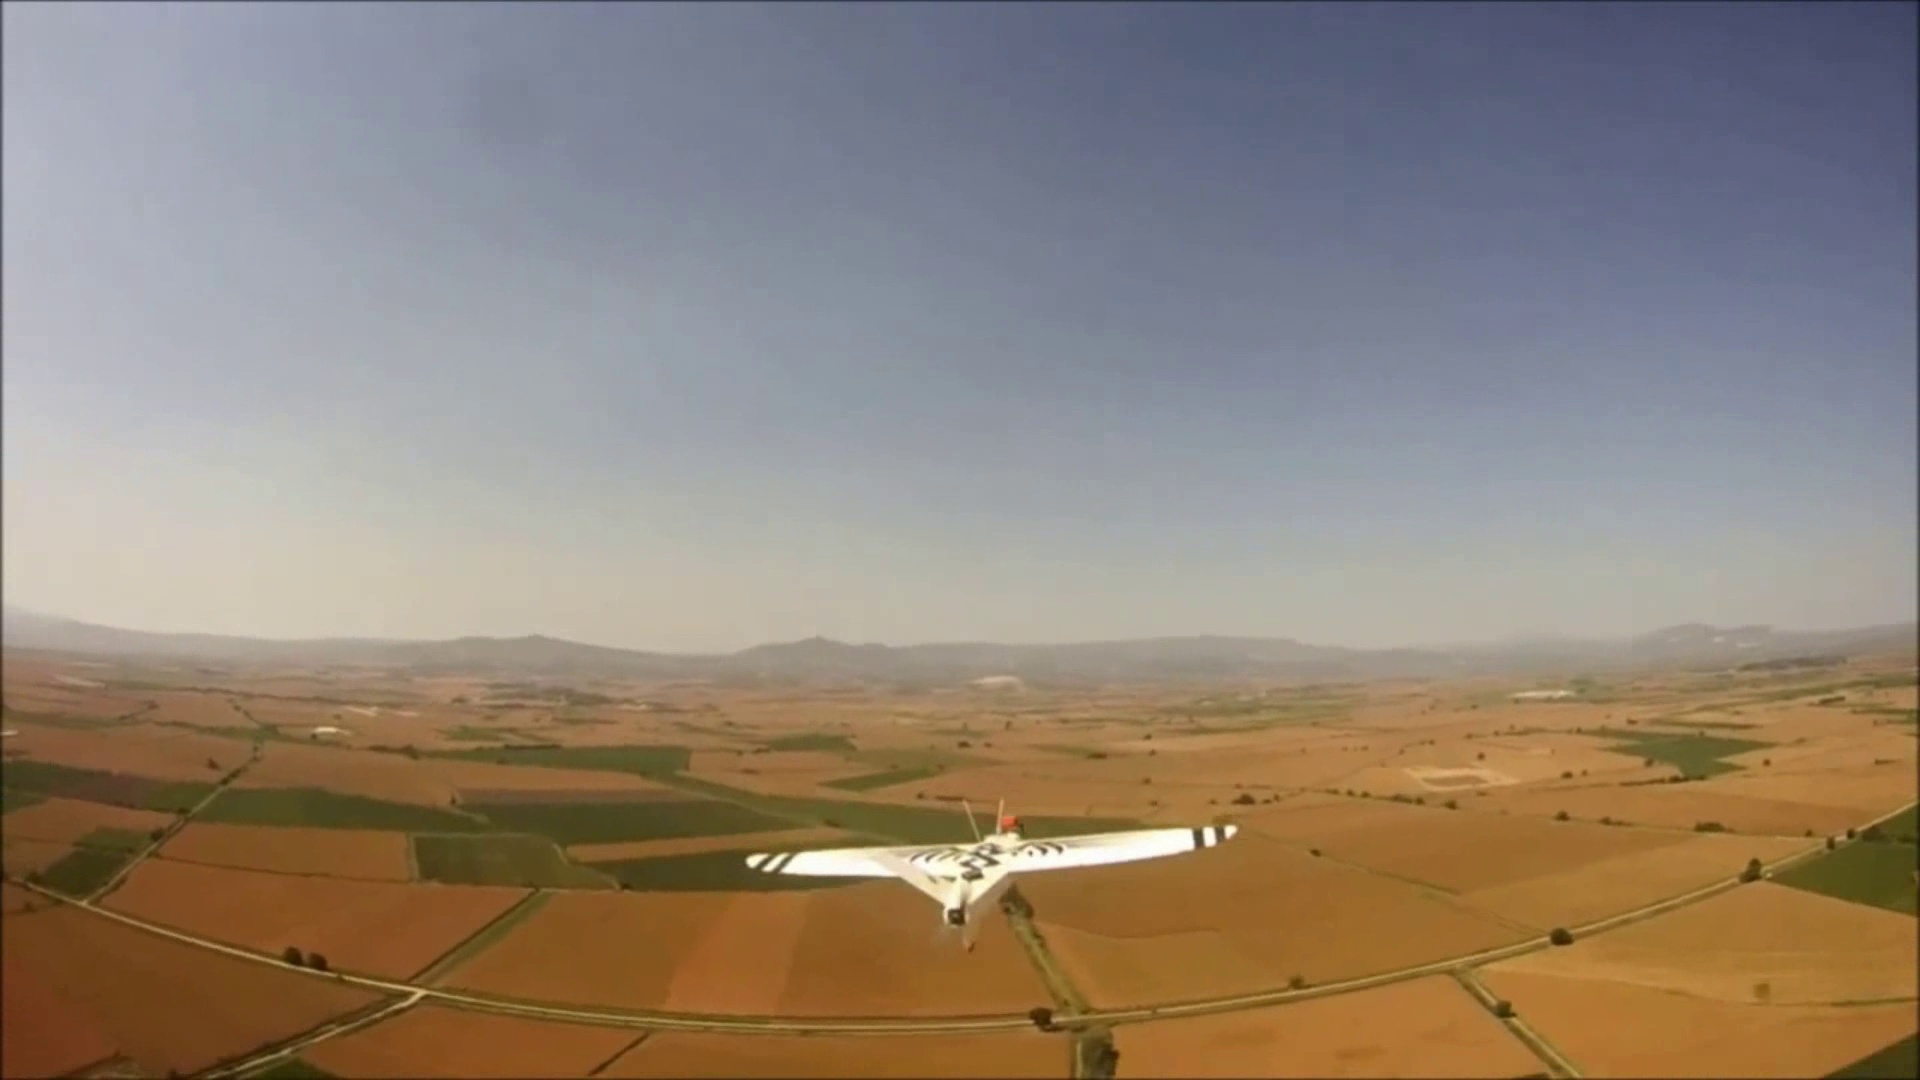airplane: (29, 778, 1841, 1069)
